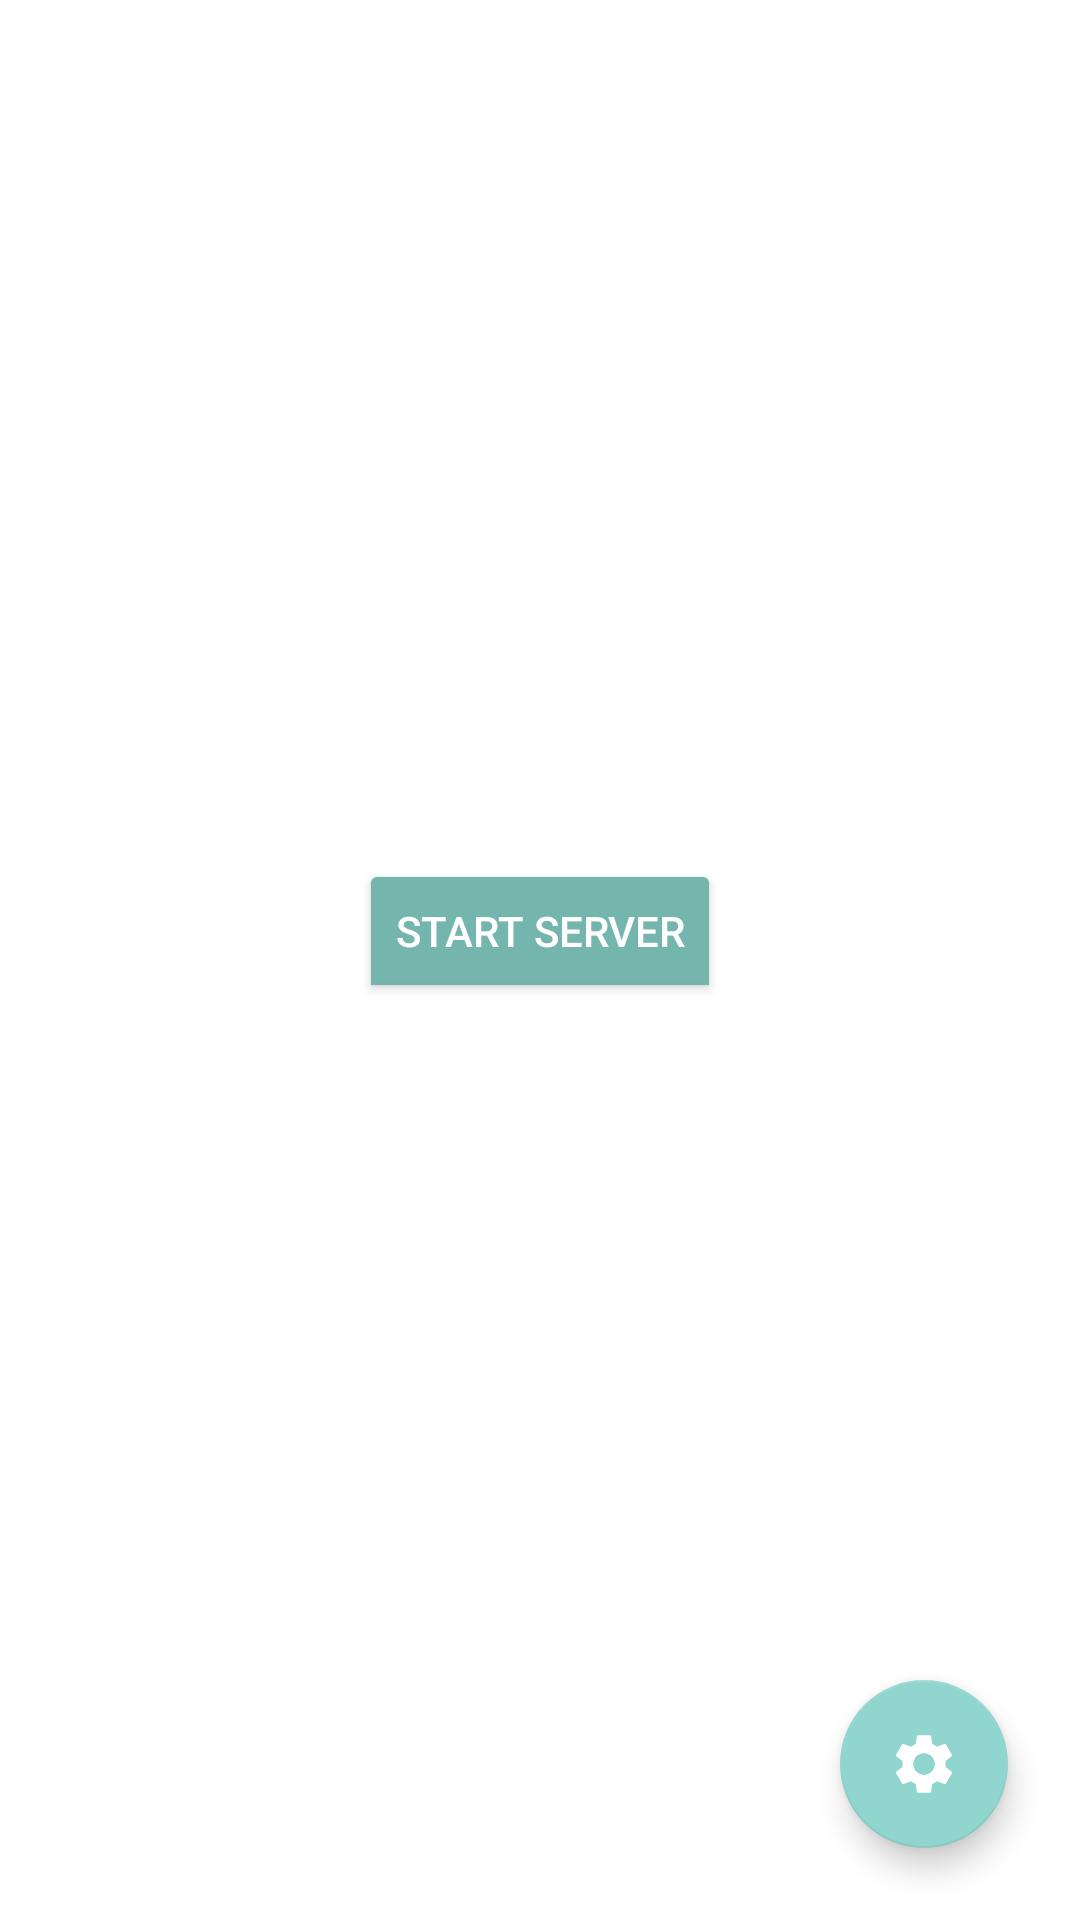

Named icons in this screenshot (1080*1920) and their bounding boxes, rect(x1, y1, x2, y2):
settings: rect(840, 1680, 1008, 1848)
